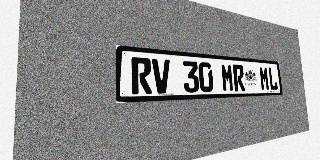0: (198, 62, 213, 92)
3: (183, 61, 199, 93)
L: (268, 67, 278, 90)
M: (221, 63, 234, 92), (259, 66, 270, 91)
R: (131, 57, 152, 94), (233, 64, 245, 91)
V: (152, 58, 171, 94)
